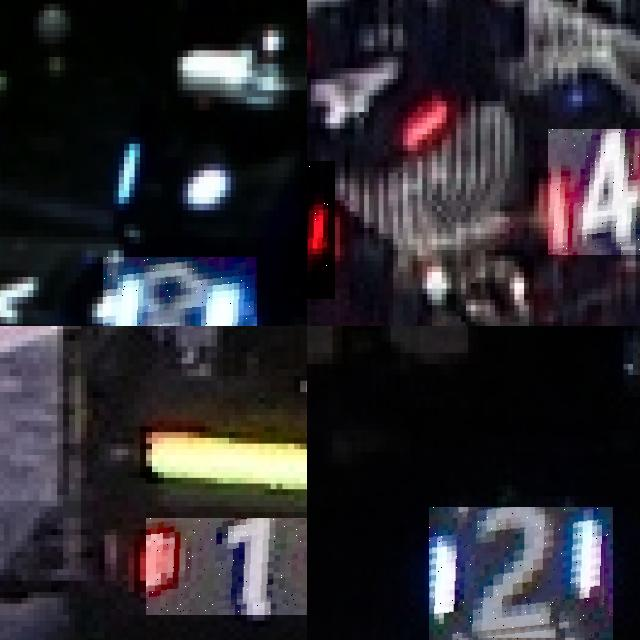B2: (429, 507, 613, 640)
Bs: (102, 257, 257, 326)
R1: (146, 518, 307, 615)
R4: (548, 128, 640, 255), (307, 161, 335, 299)
